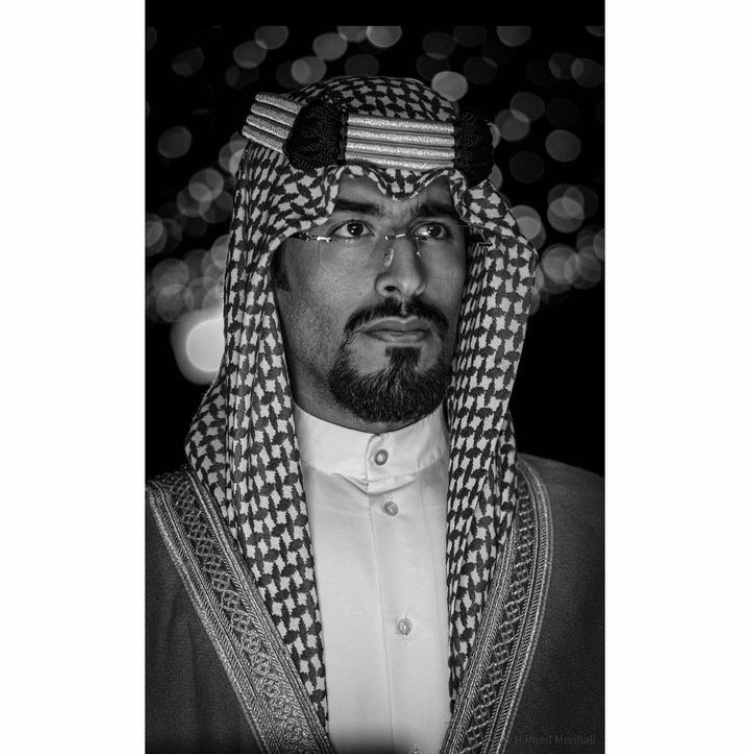Saudi_Founding_Day: (145, 68, 604, 753)
